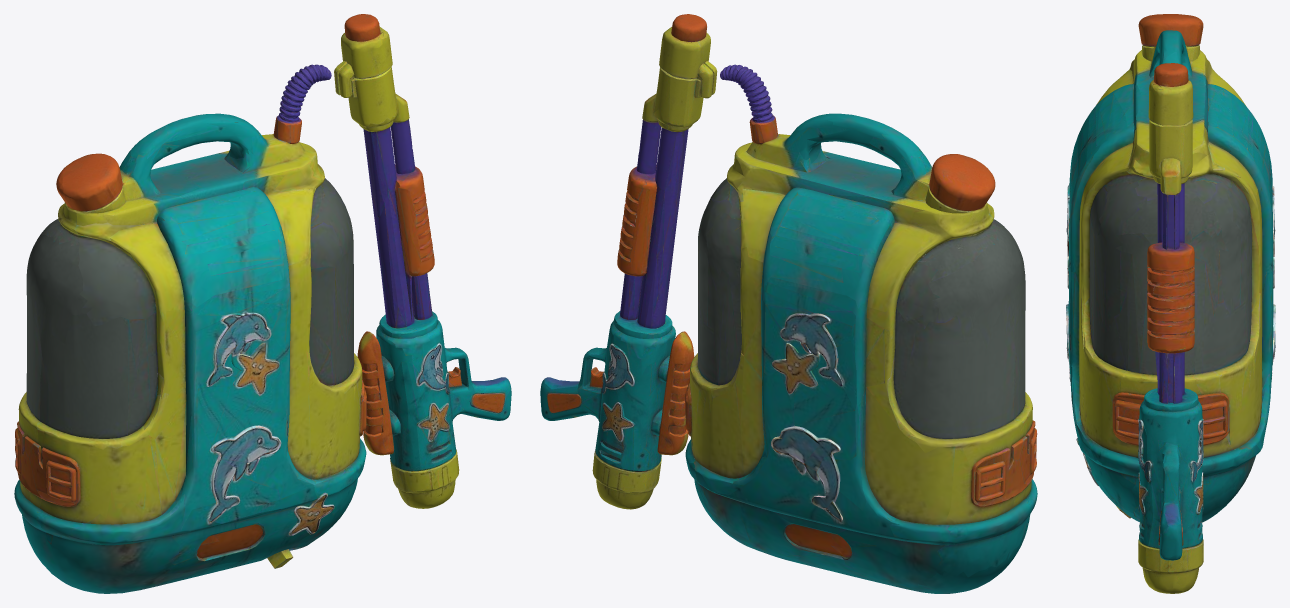
The model's file is zaino_opzione2.gltf.
3 renders of one model, left to right at view 1: azimuth 30°, elevation 25°; view 2: azimuth 150°, elevation 25°; view 3: azimuth 270°, elevation 25°, orthographic.
Parts seen in each view (by area): view 1: Zaino; view 2: Zaino; view 3: Zaino.
Part boxes in pixels (<box>): Zaino: <box>14,14,511,593</box>; Zaino: <box>540,14,1037,593</box>; Zaino: <box>1066,14,1275,593</box>.
Size of the model in its own units: 0.6133 by 0.62 by 0.2346.
1 material, 1 textured.
